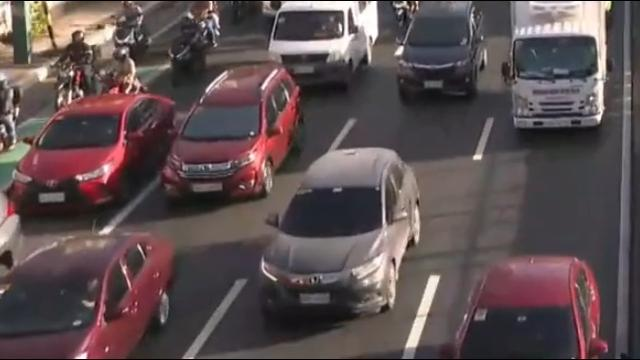car: (252, 142, 428, 327), (0, 229, 184, 360), (7, 91, 180, 221), (159, 61, 307, 207), (445, 252, 612, 360), (393, 0, 498, 107)
motorcycle: (49, 26, 104, 113), (165, 0, 220, 85), (98, 46, 146, 103), (0, 68, 24, 159), (113, 0, 150, 58), (387, 0, 420, 29)
truck: (499, 0, 614, 137)
van: (265, 0, 381, 99)
